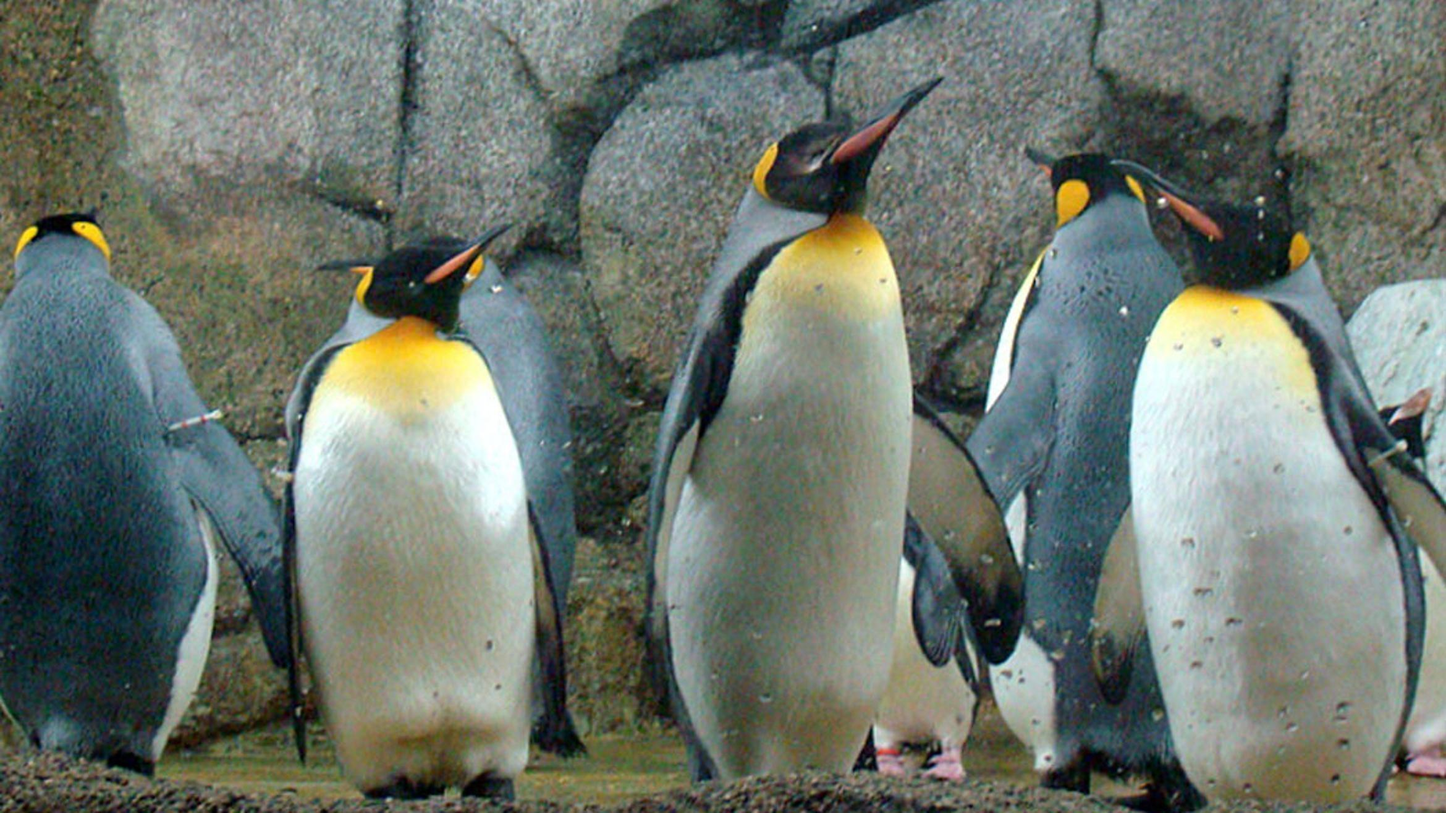Penguin: (649, 79, 1025, 775), (1093, 161, 1445, 801), (285, 223, 585, 799), (0, 215, 288, 768), (969, 150, 1203, 811), (461, 252, 578, 613), (873, 514, 979, 783), (1345, 277, 1445, 497), (1387, 550, 1445, 779)
